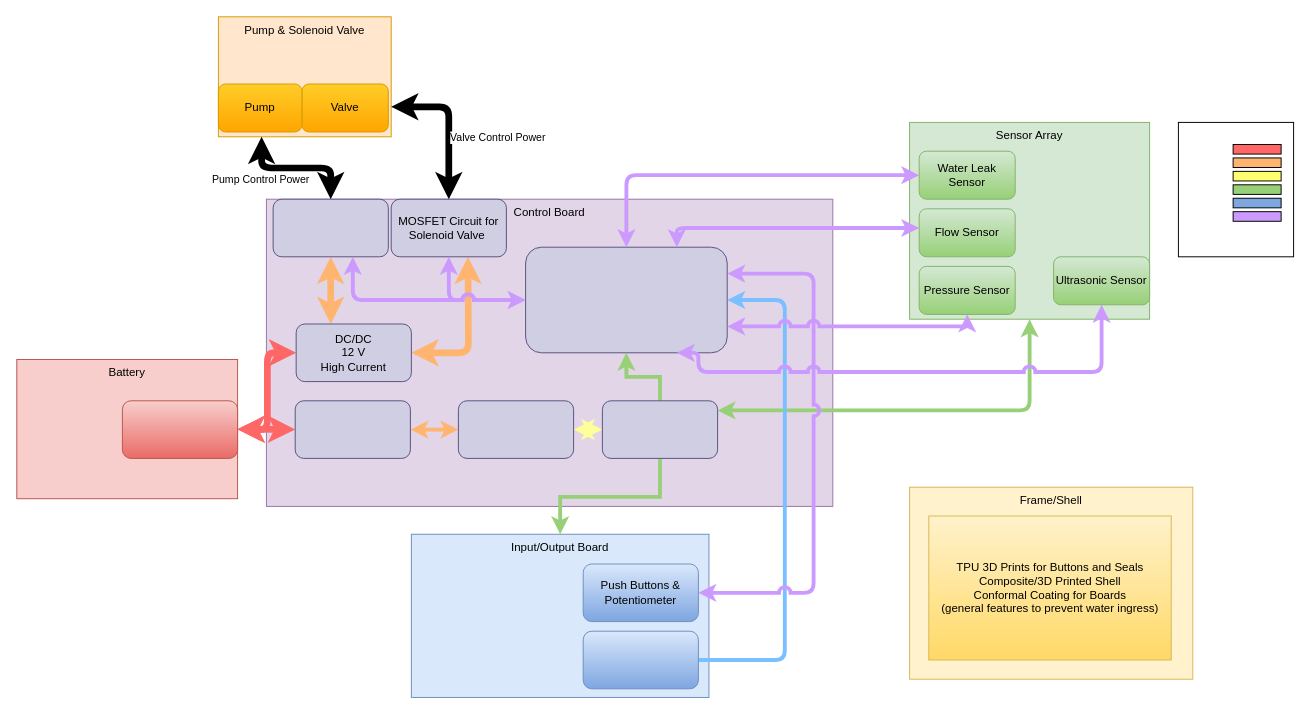
This 1310x714 diagram has some shape labels left out. The shapes that lost their labels are listed below. From the top down, each one's centre as x and y in pixels, then its label:
At (x=1235, y=189): "18V 12V 5V 3V3 SPI MCU I/O".
At (x=330, y=227): "MOSFET Circuit for Pump".
At (x=626, y=299): "Microcontroller".
At (x=179, y=429): "18V DC Milwaukee Battery".
At (x=352, y=429): "DC/DC 12 V Low Current".
At (x=515, y=429): "DCDC 5 V".
At (x=659, y=429): "3v3 LDO".
At (x=640, y=659): "OLED Display".
